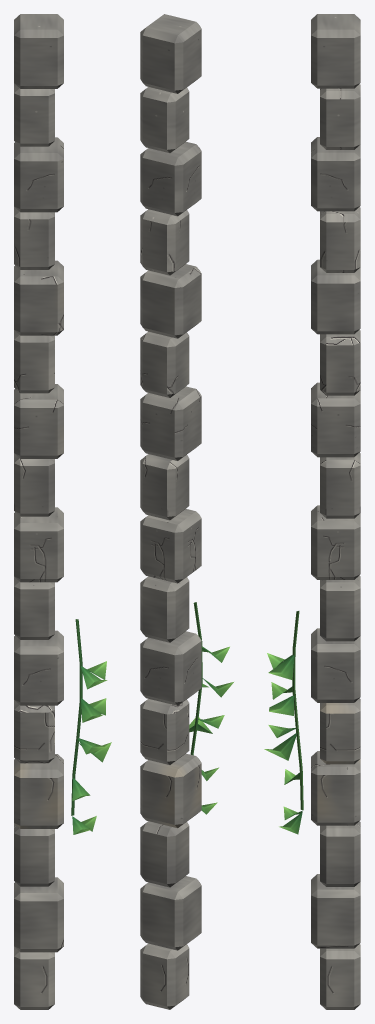
File: pit_corner_in.glb
The picture shows the model from 3 angles, left to right: view 1: azimuth 90°, elevation 25°; view 2: azimuth 150°, elevation 25°; view 3: azimuth 270°, elevation 25°; orthographic projection.
Parts seen in each view (by area): view 1: pit_corner_in_blocks, pit_corner_in_green; view 2: pit_corner_in_blocks, pit_corner_in_green; view 3: pit_corner_in_blocks, pit_corner_in_green.
Boxes of the visible parts, x1,y1,x2,y2 form: pit_corner_in_blocks: [14, 14, 63, 1009]; pit_corner_in_green: [71, 619, 111, 834]; pit_corner_in_blocks: [140, 14, 201, 1009]; pit_corner_in_green: [189, 602, 233, 814]; pit_corner_in_blocks: [311, 14, 360, 1009]; pit_corner_in_green: [264, 611, 303, 834].
Bounding box in the file's own units: 0.6768 × 11.97 × 1.08.
Materials: 2 (2 with a texture image).
